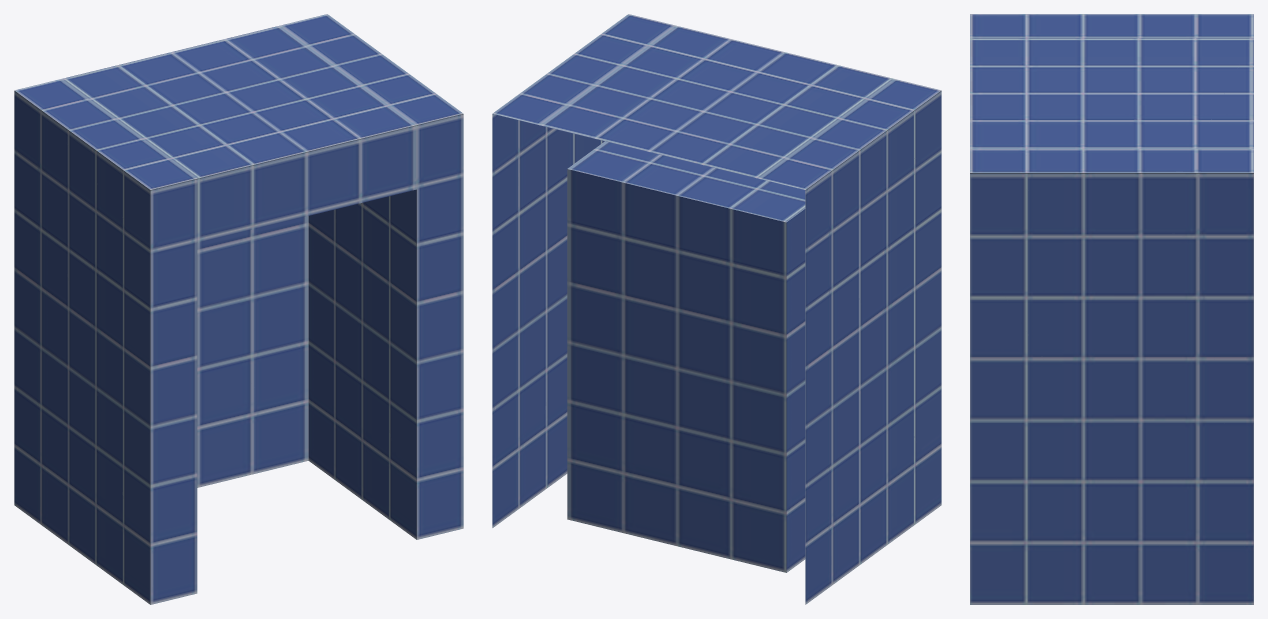
File: basin stand.FBX
The picture shows the model from 3 angles, left to right: view 1: azimuth 30°, elevation 25°; view 2: azimuth 150°, elevation 25°; view 3: azimuth 270°, elevation 25°; orthographic projection. The views are drawn at different scales.
Parts seen in each view (by area): view 1: basin stand; view 2: basin stand; view 3: basin stand.
Boxes of the visible parts, <box> form: basin stand: <box>14,14,463,604</box>; basin stand: <box>492,14,941,604</box>; basin stand: <box>970,14,1253,604</box>.
Bounding box in the file's own units: 23.18 × 17.47 × 29.33.
